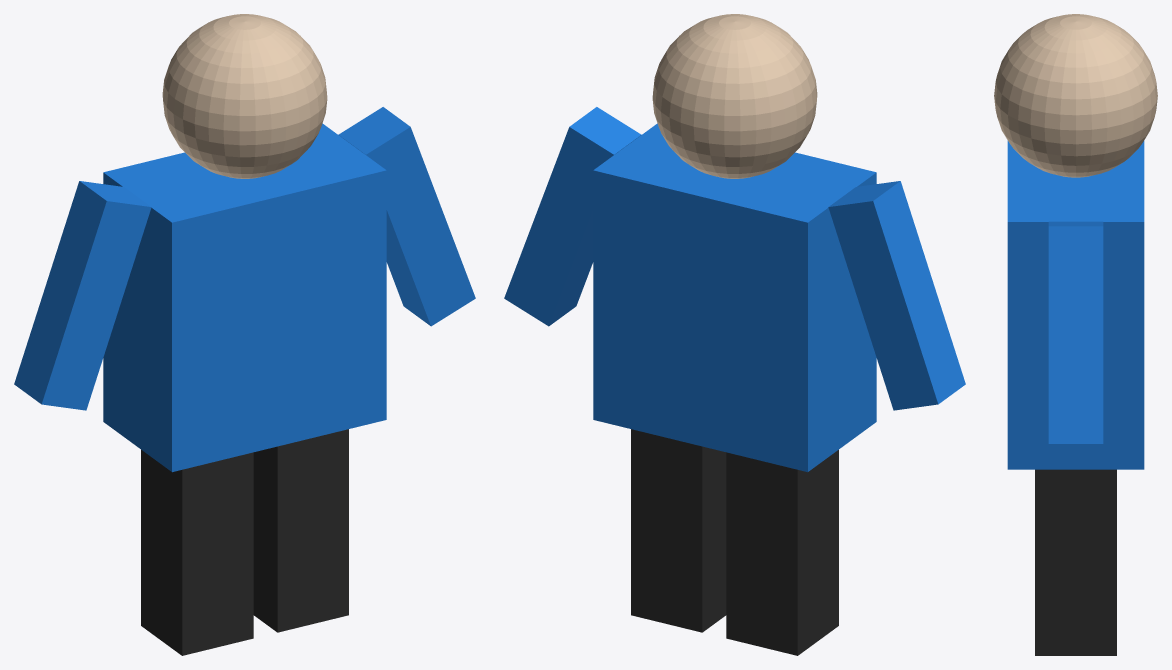
File: placeholder.glb
3 renders of one model, left to right at view 1: azimuth 30°, elevation 25°; view 2: azimuth 150°, elevation 25°; view 3: azimuth 270°, elevation 25°, orthographic.
Parts seen in each view (by area): view 1: Cube.002, Sphere, Cube.001, Cube, Cube.004, Cube.003; view 2: Cube.002, Sphere, Cube.001, Cube, Cube.004, Cube.003; view 3: Cube.002, Sphere, Cube, Cube.003.
Boxes of the visible parts, x1,y1,x2,y2 form: Cube.002: (103,123,386,472); Sphere: (162,14,327,178); Cube.001: (141,450,253,655); Cube: (253,429,348,632); Cube.004: (14,181,151,410); Cube.003: (338,107,475,326); Cube.002: (593,123,876,472); Sphere: (652,14,817,178); Cube.001: (726,450,838,655); Cube: (631,429,726,632); Cube.004: (828,181,965,410); Cube.003: (504,107,641,326); Cube.002: (1007,140,1144,469); Sphere: (994,14,1157,177); Cube: (1035,469,1116,655); Cube.003: (1048,221,1103,443).
Bounding box in the file's own units: 1.82 × 2.4 × 0.6.
